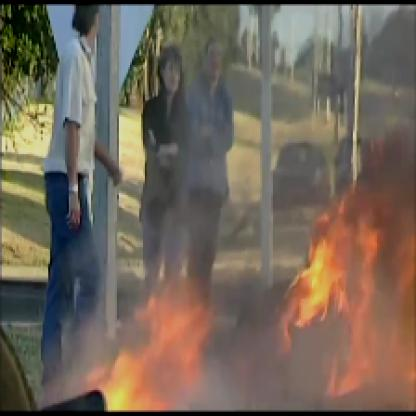Fire: (74, 203, 414, 414)
